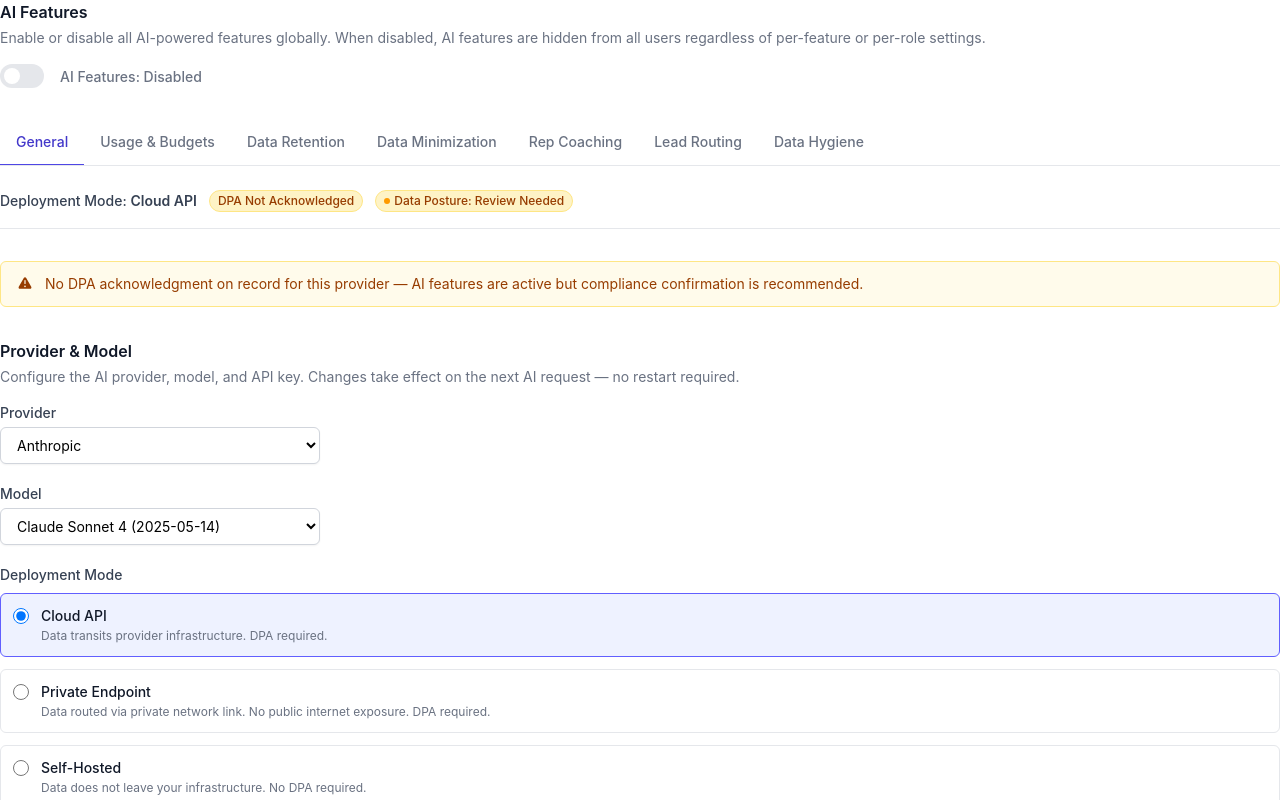
Test: AiSettings — master toggle › shows confirmation dialog when toggle is clicked
The width and height of the screenshot is (1280, 800).
Click the switch with test id "ai-master-toggle" at (22, 76), box 0,64 -> 44,88
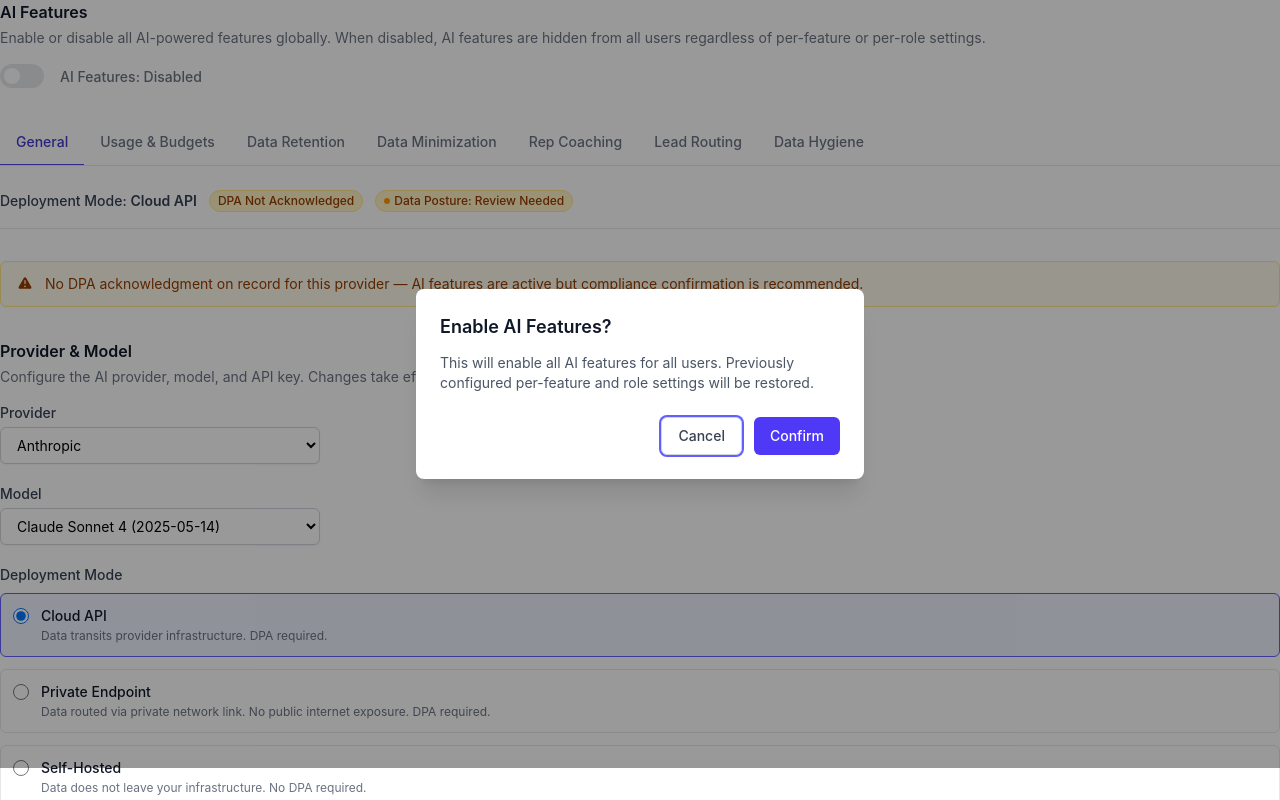
Expected: the dialog with test id "ai-toggle-confirm-dialog" is shown
